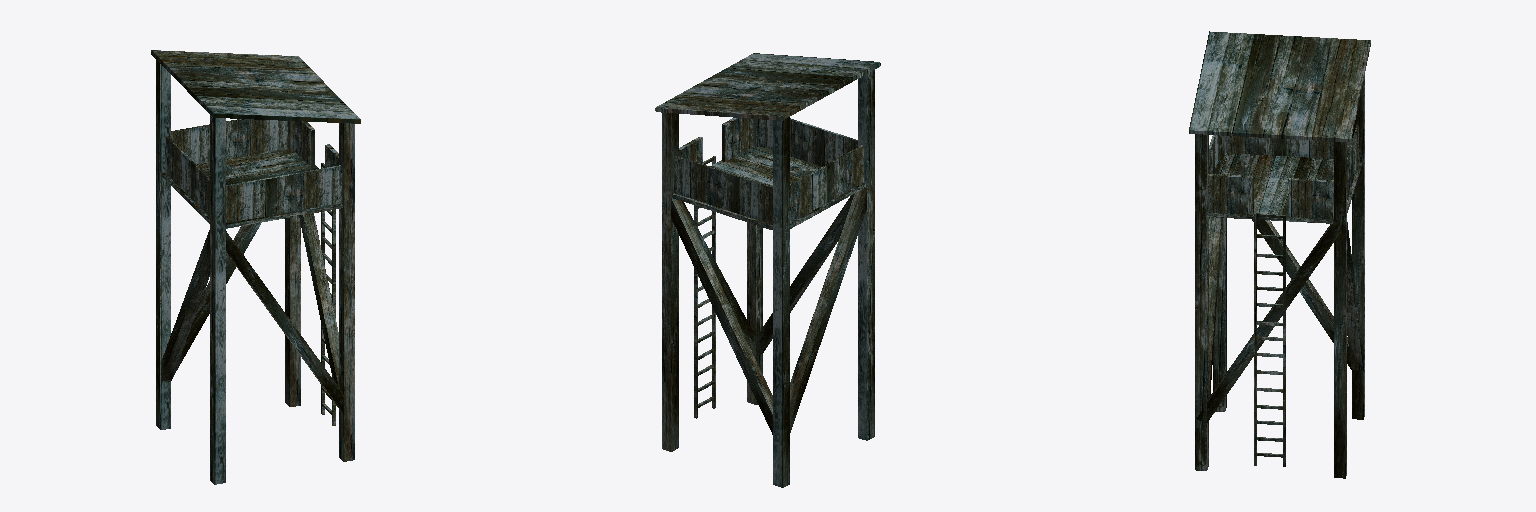
3 views of the same model, side by side, from view 1: azimuth 30°, elevation 25°; view 2: azimuth 150°, elevation 25°; view 3: azimuth 270°, elevation 25° (orthographic).
Bounding box in the file's own units: 52.78 × 121 × 53.51.
Materials: 1 (1 with a texture image).